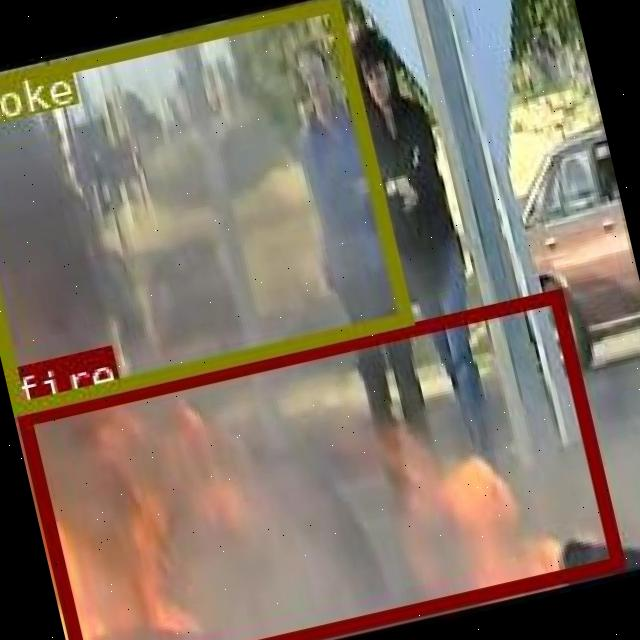fire: (15, 287, 622, 640)
smoke: (0, 0, 409, 413)
